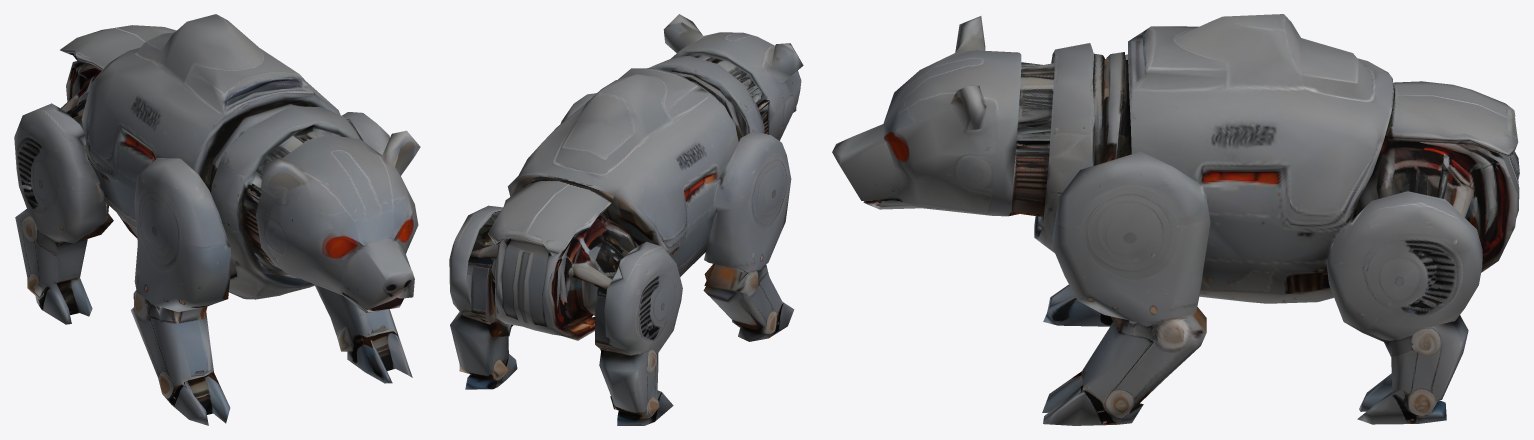
Rendered from bruno_bear_slam.fbx.
3 renders of one model, left to right at view 1: azimuth 30°, elevation 25°; view 2: azimuth 150°, elevation 25°; view 3: azimuth 270°, elevation 25°, orthographic. The views are drawn at different scales.
Parts seen in each view (by area): view 1: tripo_node_a9cd48d7; view 2: tripo_node_a9cd48d7; view 3: tripo_node_a9cd48d7.
Boxes of the visible parts, x1,y1,x2,y2 form: tripo_node_a9cd48d7: [14, 14, 420, 425]; tripo_node_a9cd48d7: [449, 14, 803, 425]; tripo_node_a9cd48d7: [832, 14, 1519, 425].
Bounding box in the file's own units: 43.99 × 99.92 × 56.22.
1 material, 1 textured.
